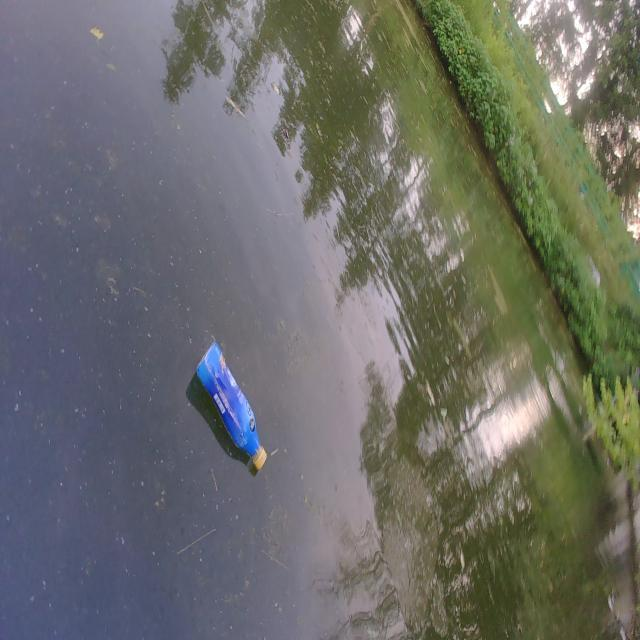garbage: (196, 340, 268, 476)
